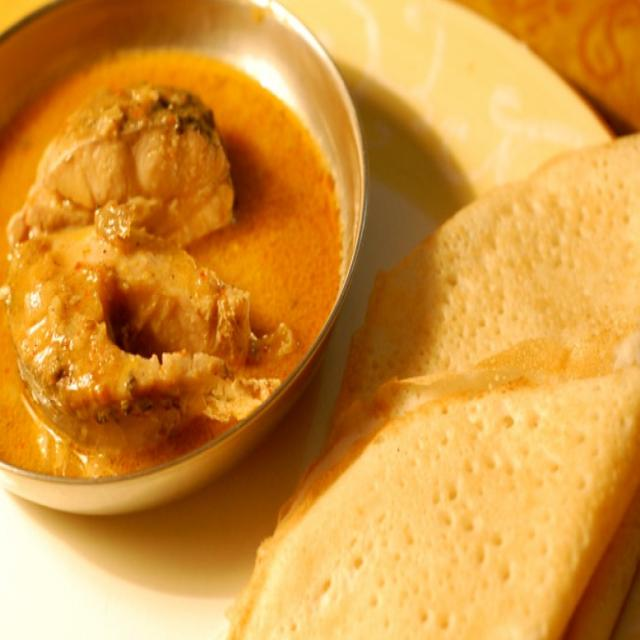DOSA: (228, 138, 639, 639)
FISH CURRY: (0, 50, 343, 479)
